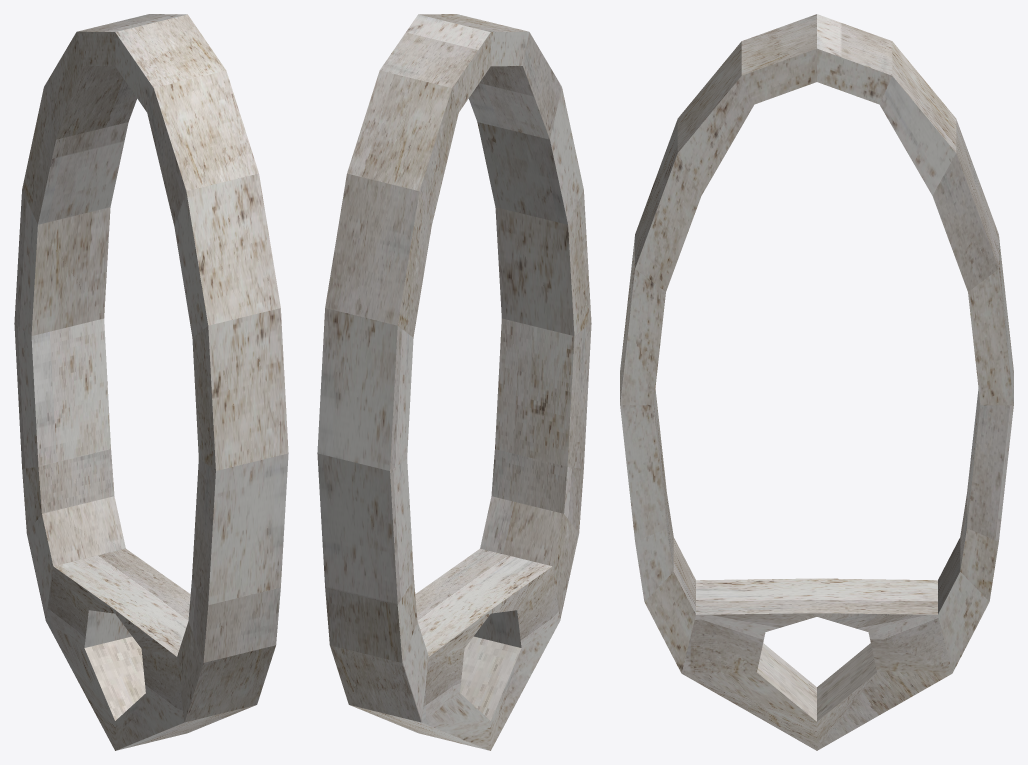
File: PSX metallic mirror.fbx
The picture shows the model from 3 angles, left to right: view 1: azimuth 30°, elevation 25°; view 2: azimuth 150°, elevation 25°; view 3: azimuth 270°, elevation 25°; orthographic projection. The views are drawn at different scales.
Parts seen in each view (by area): view 1: Cube; view 2: Cube; view 3: Cube.
Boxes of the visible parts, x1,y1,x2,y2 form: Cube: (14, 14, 288, 750); Cube: (317, 14, 591, 750); Cube: (620, 14, 1013, 750).
Bounding box in the file's own units: 12.09 × 114 × 58.13.
Materials: 1 (1 with a texture image).
